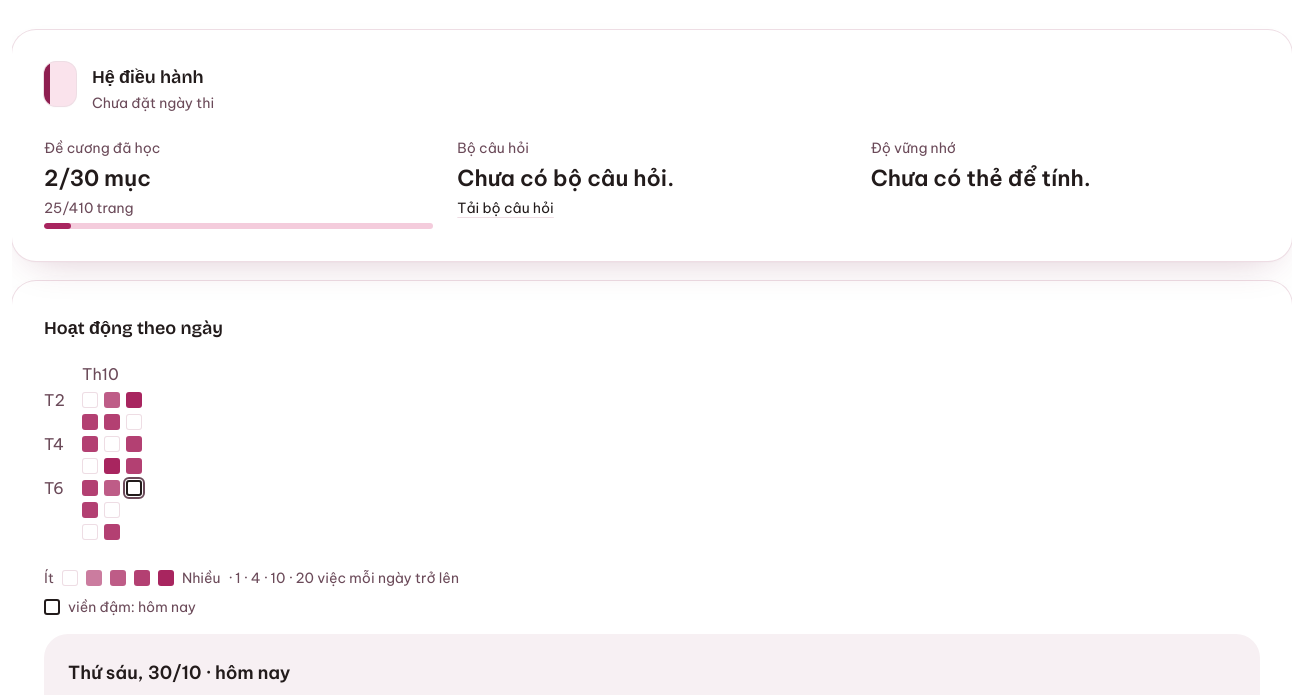
Test case: activity grid › an empty today is a plain fact
The image size is (1292, 695).
Expected: the button named "Hôm nay, Thứ sáu, 30/10: không có ghi nhận" is shown, [126,480,142,496]
Hover over the button named "Thứ hai, 12/10: không có ghi nhận" at [90, 400], box [82,392,98,408]
(page scrolled)
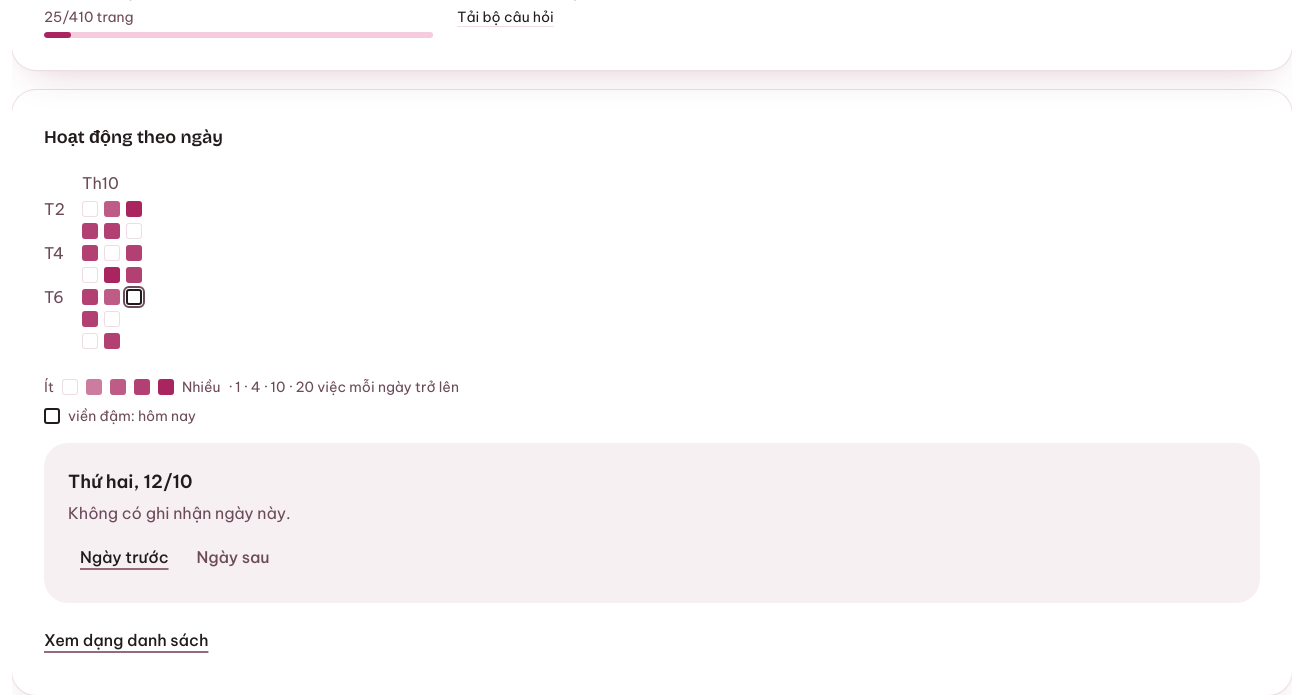
Expected: the element that starts with "Thứ hai, 12/10" reads "Thứ hai, 12/10 Không có ghi nhận ngày này. Ngày trước Ngày sau", [68,503,291,523]
